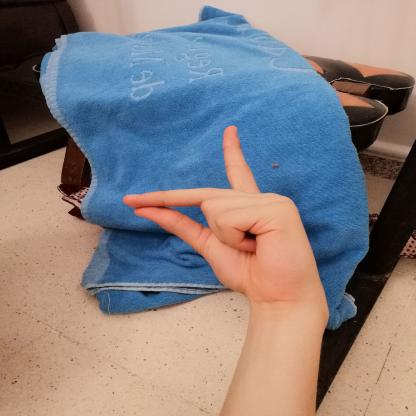TAA: (108, 114, 329, 311)
